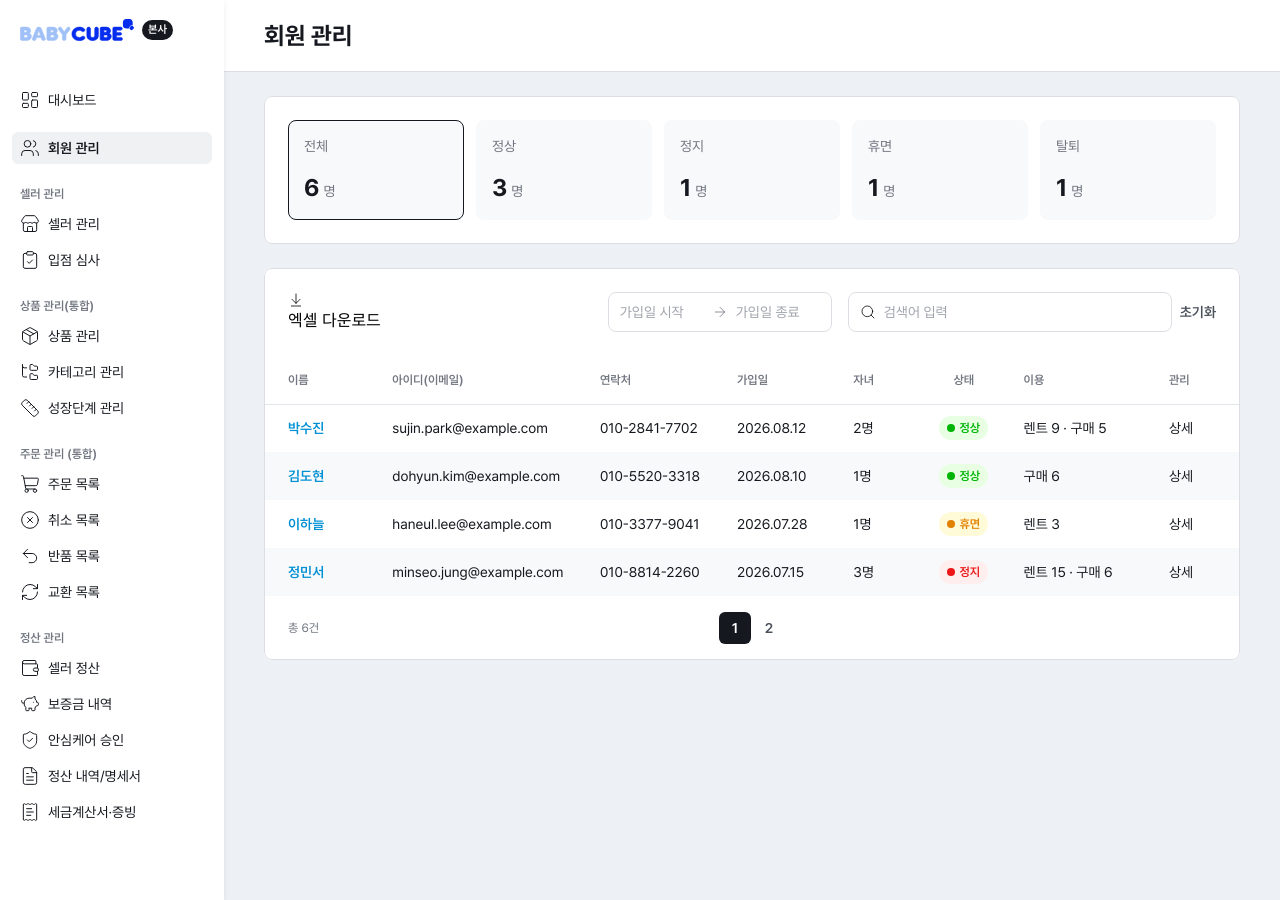
Scenario: MemberListPage (S02 회원 관리) › 상세 진입과 미리보기 모달 › 이름을 눌러도 같은 미리보기가 열린다
The image size is (1280, 900).
Step 1. Click the button "정민서" → {"x": 306, "y": 572}, box [288, 560, 324, 584]
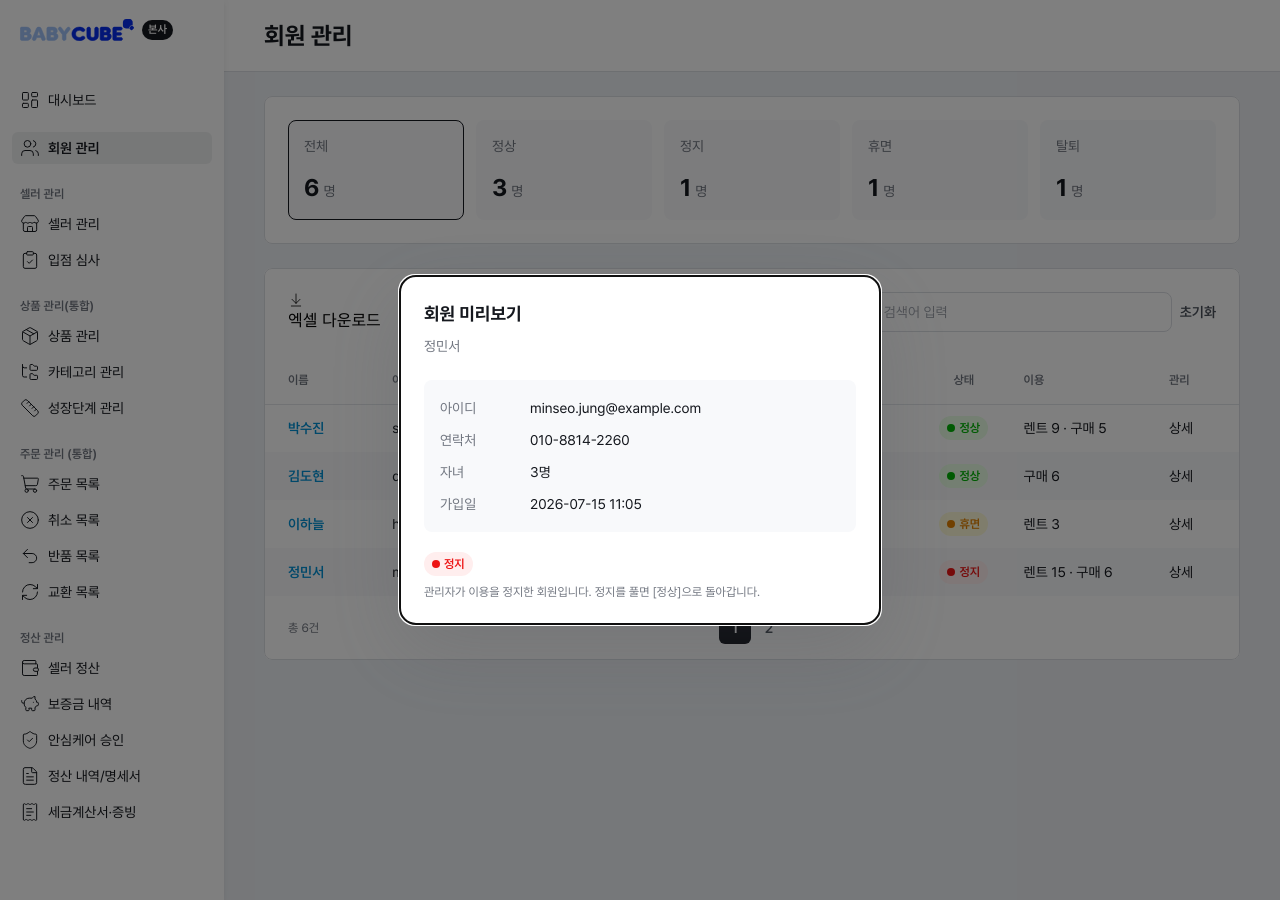
Expected: the text "010-8814-2260" is shown, [530, 428, 630, 452]
